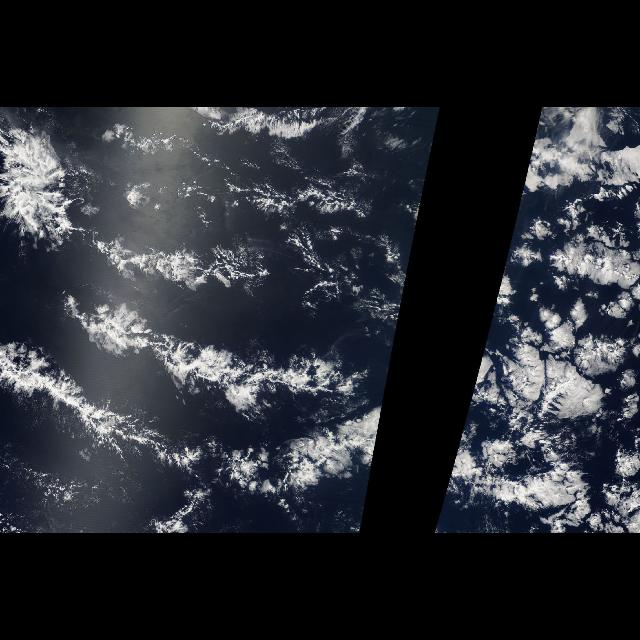Fish: (51, 216, 391, 500)
Flower: (446, 223, 632, 525)
